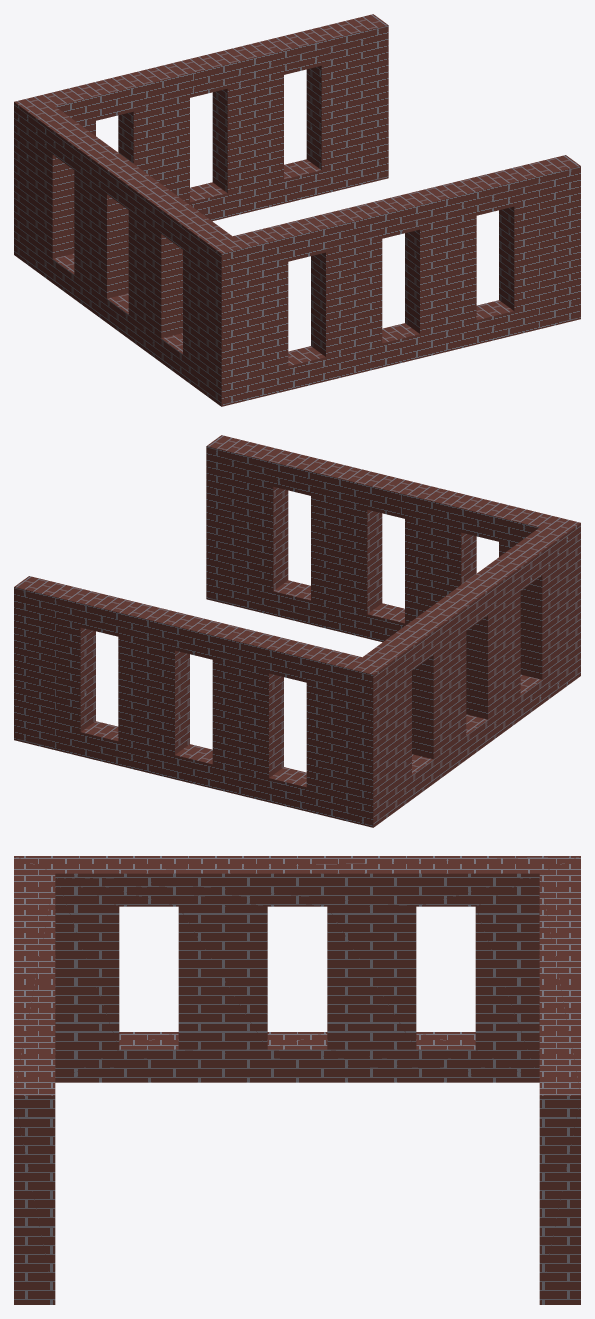
The model's file is Bricks.fbx.
3 renders of one model, top to bottom at view 1: azimuth 30°, elevation 25°; view 2: azimuth 150°, elevation 25°; view 3: azimuth 270°, elevation 25°, orthographic. The views are drawn at different scales.
Visible parts, largest first — view 1: Walls; view 2: Walls; view 3: Walls.
Part boxes in pixels (left/top/right/bottom): Walls: left=14, top=14, right=580, bottom=406; Walls: left=14, top=435, right=580, bottom=827; Walls: left=14, top=856, right=580, bottom=1304.
Size of the model in its own units: 1910 by 778 by 1910.
